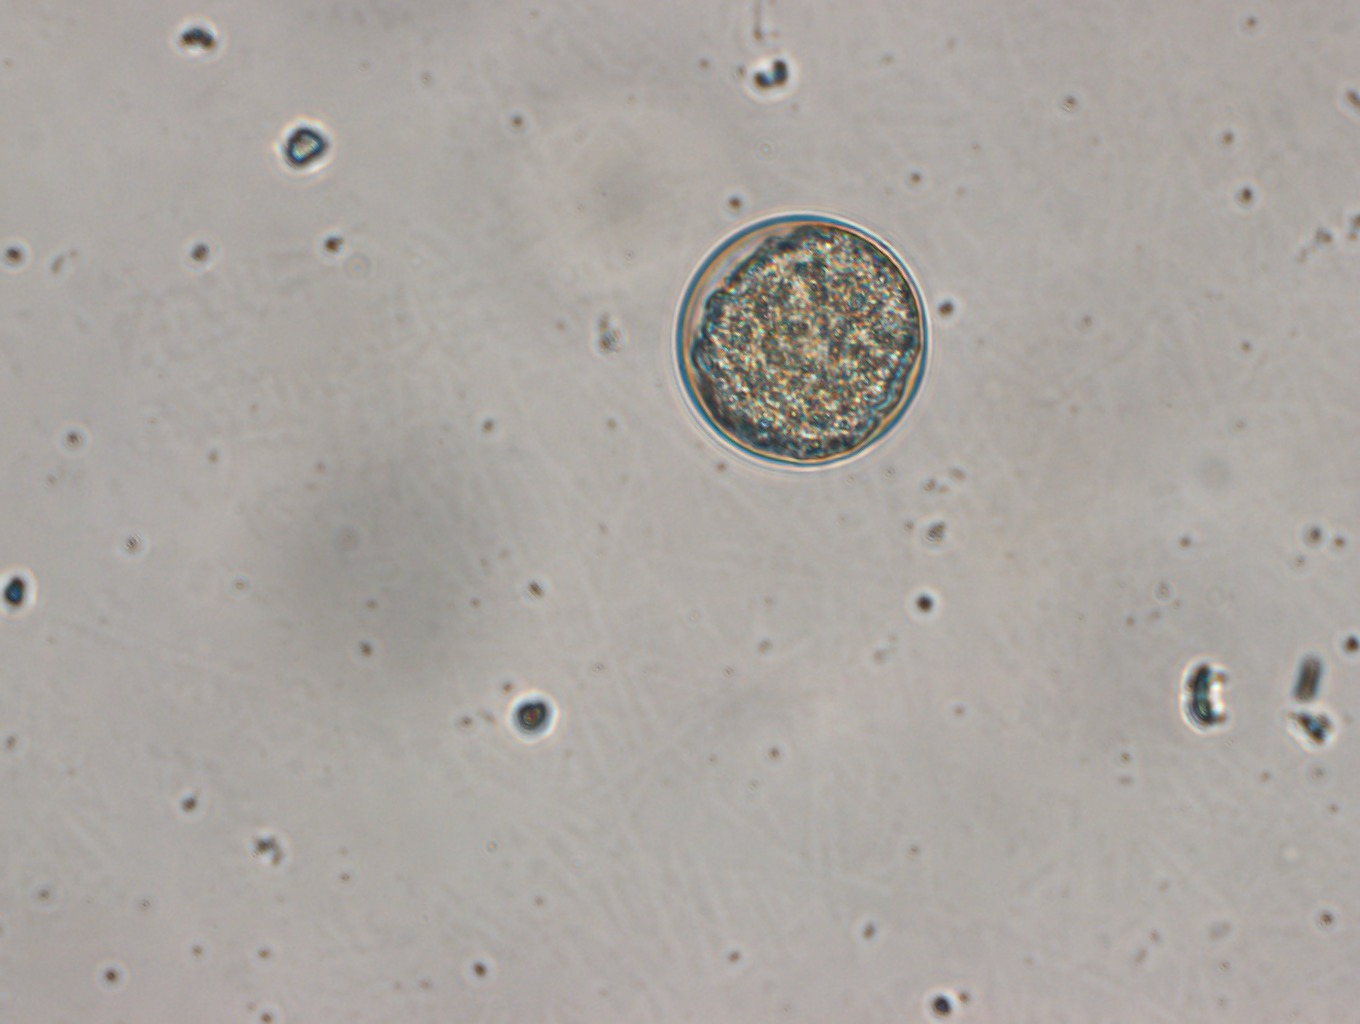coscinodiscus: (668, 211, 933, 473)
